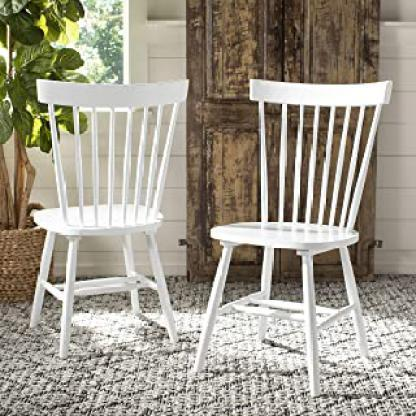chair: (180, 73, 399, 414), (12, 69, 190, 366)
